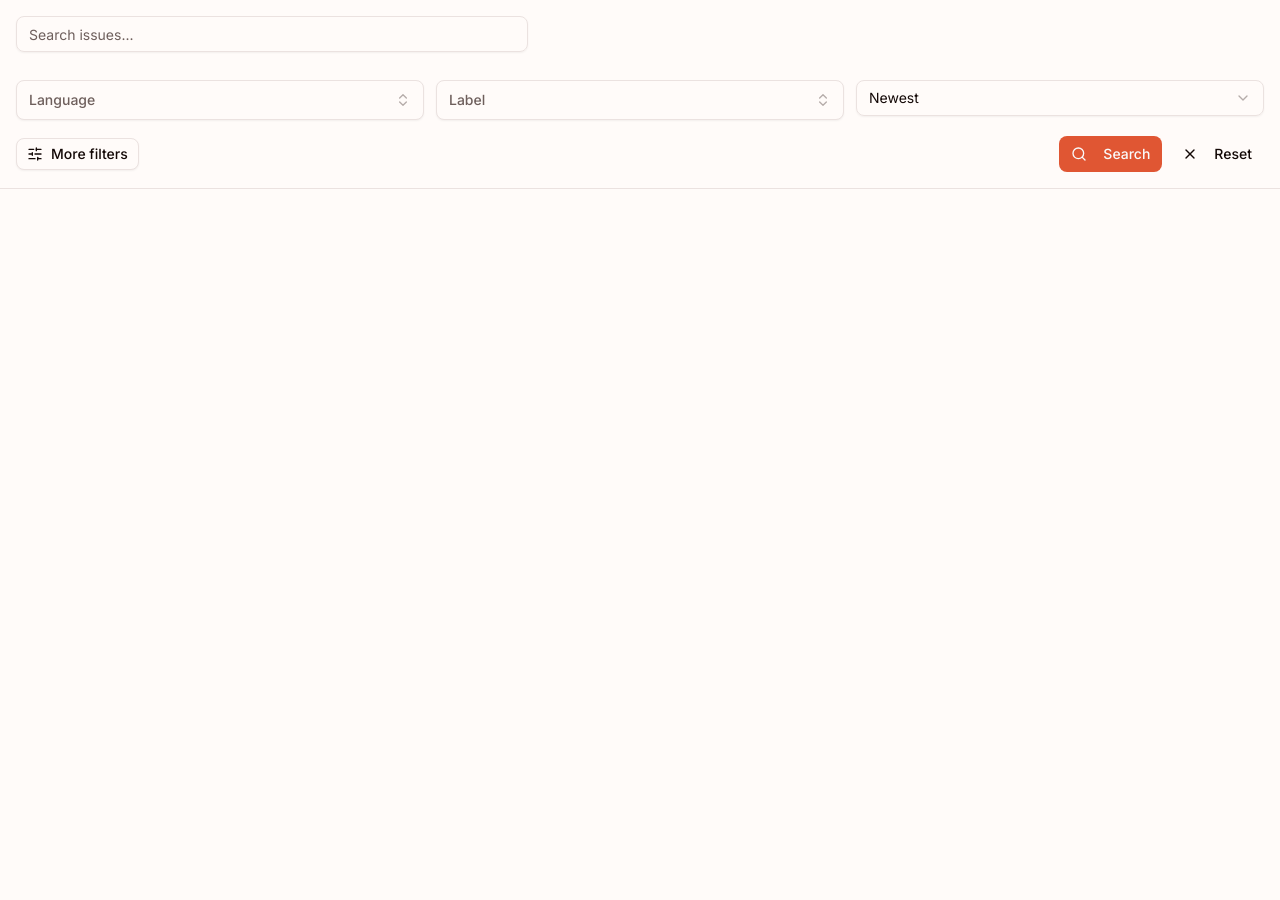
it: FilterBar › opens advanced filters dialog
Click the button "More filters".
click(77, 154)  # box left=16, top=138, right=139, bottom=170
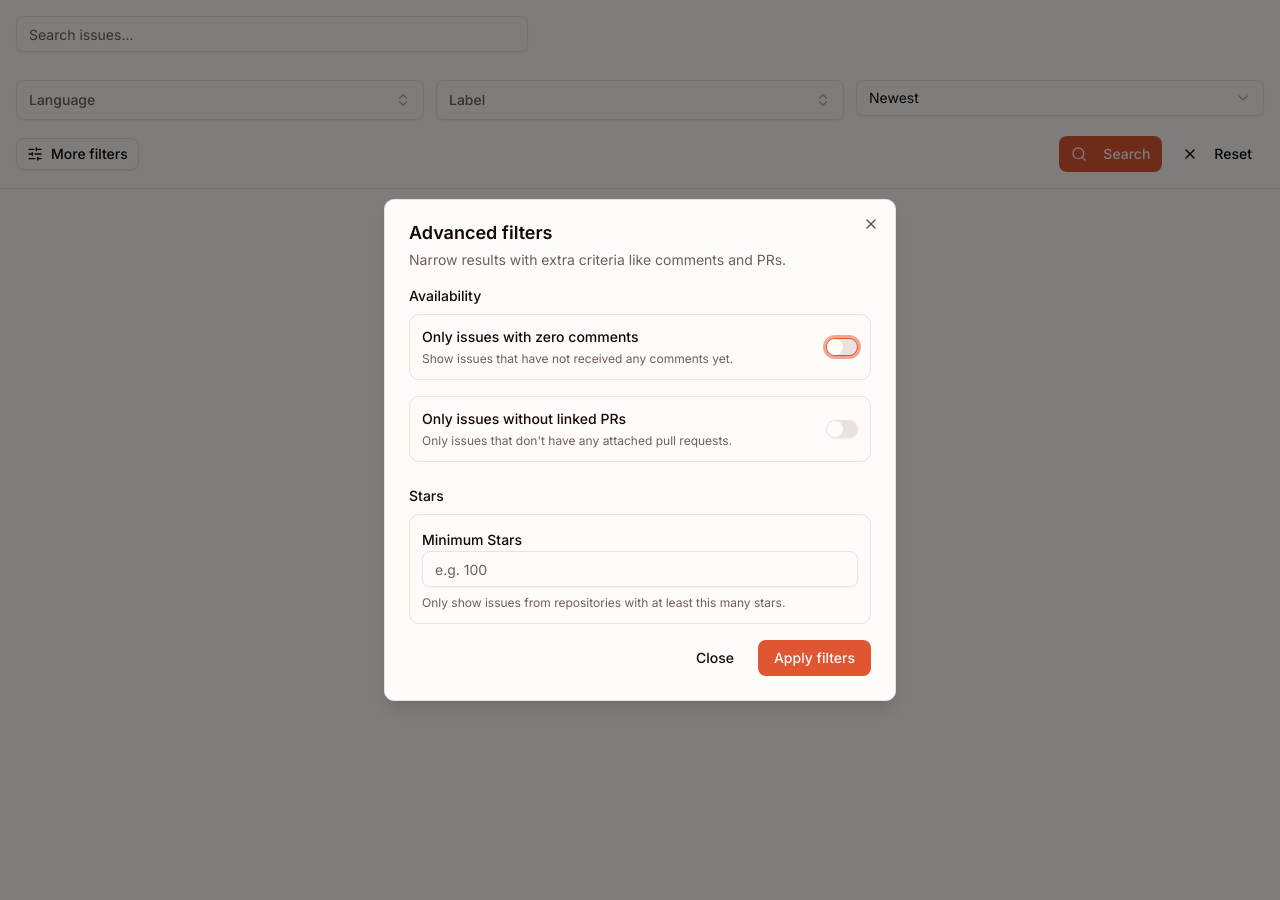
Result: the heading "Advanced filters" is shown at left=409, top=222, right=552, bottom=243
Result: the text "Only issues with zero comments" is shown at left=422, top=328, right=638, bottom=345
